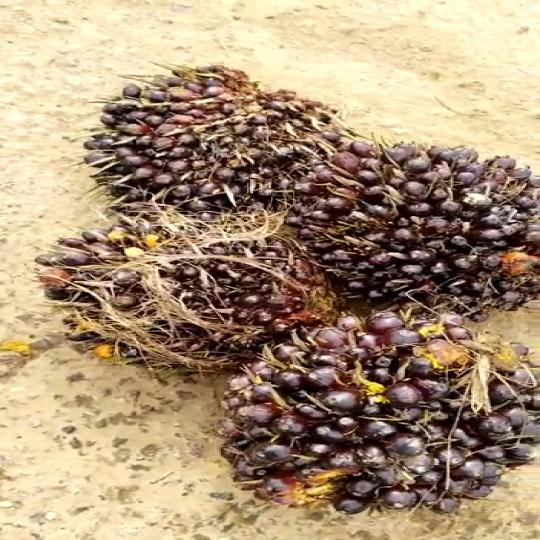mentah: (182, 310, 540, 520), (21, 188, 352, 375), (311, 125, 540, 325), (90, 70, 378, 220)
